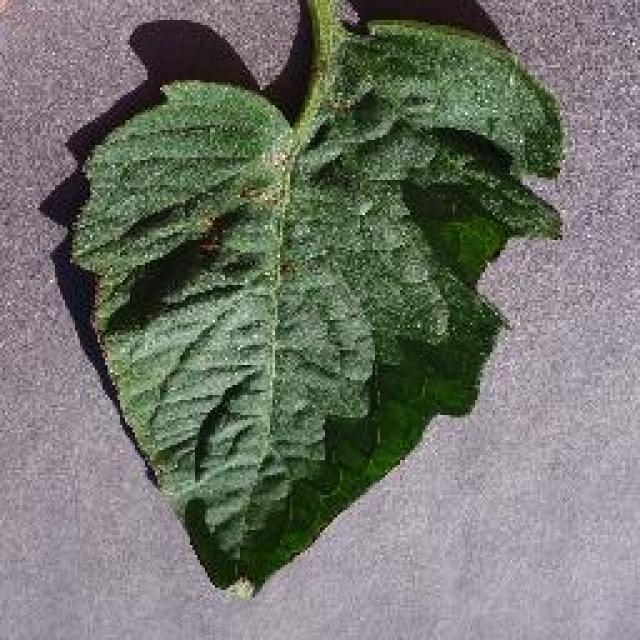Tomato___Target_Spot: (72, 0, 560, 598)
